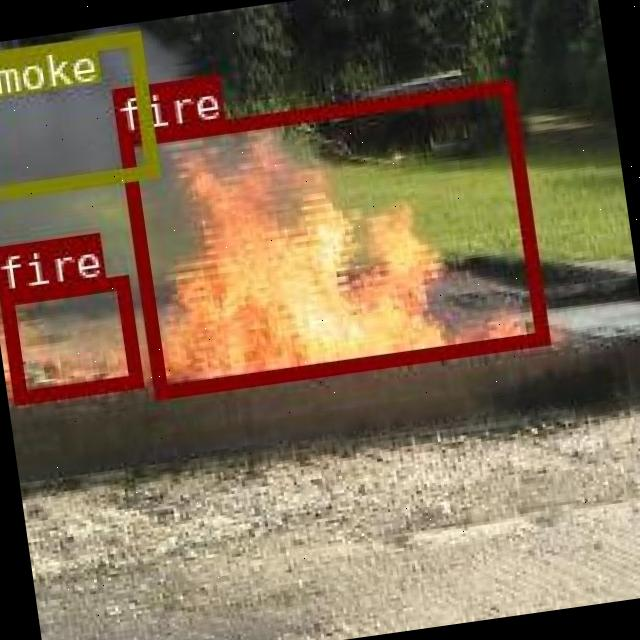fire: (117, 79, 548, 398), (0, 275, 139, 404)
smoke: (0, 31, 157, 200)
